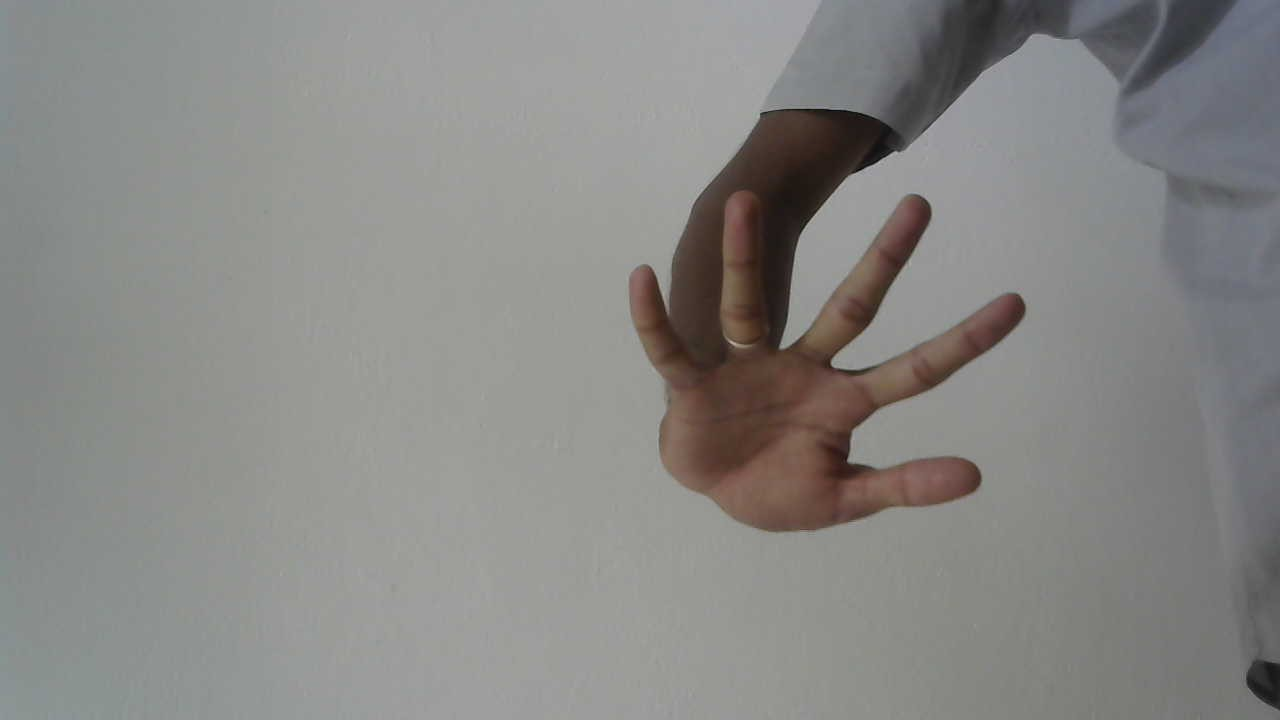hello: (613, 186, 1046, 546)
